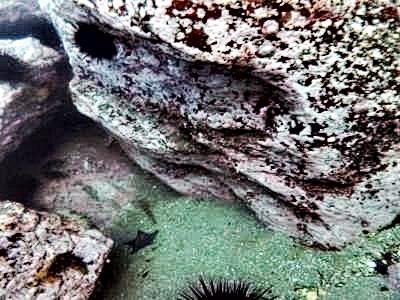urchin: (167, 273, 271, 296), (73, 22, 118, 65), (3, 51, 28, 87)
